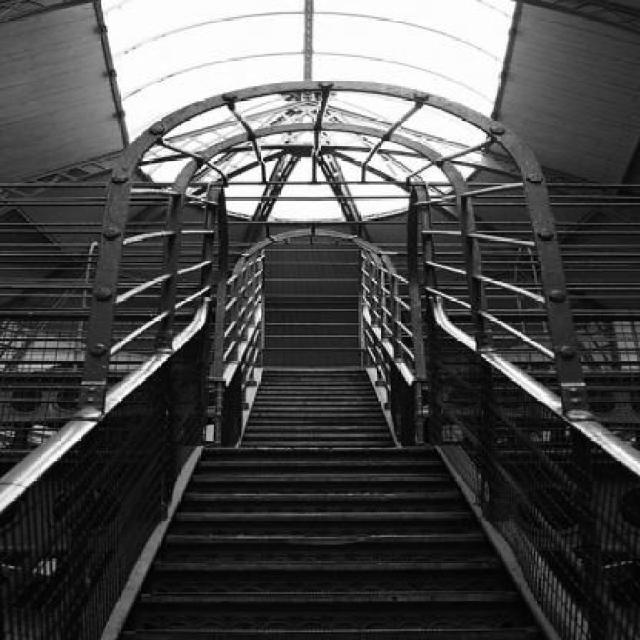stair: (104, 436, 580, 638)
